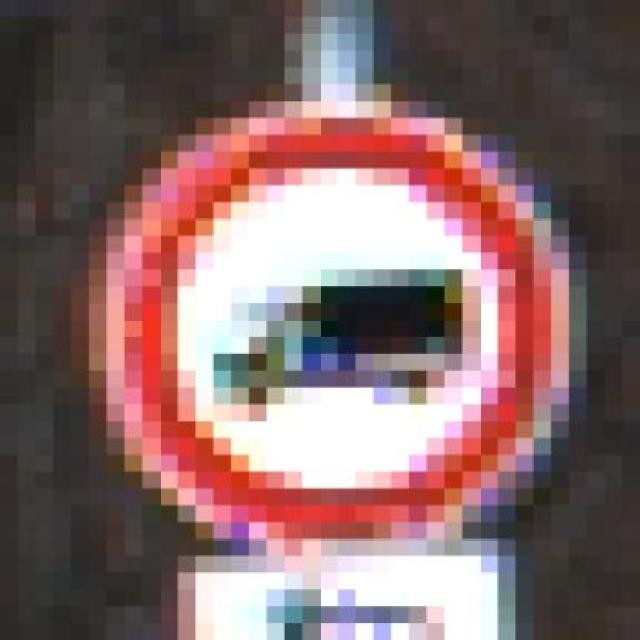Truck traffic is prohibited: (89, 67, 605, 556)
